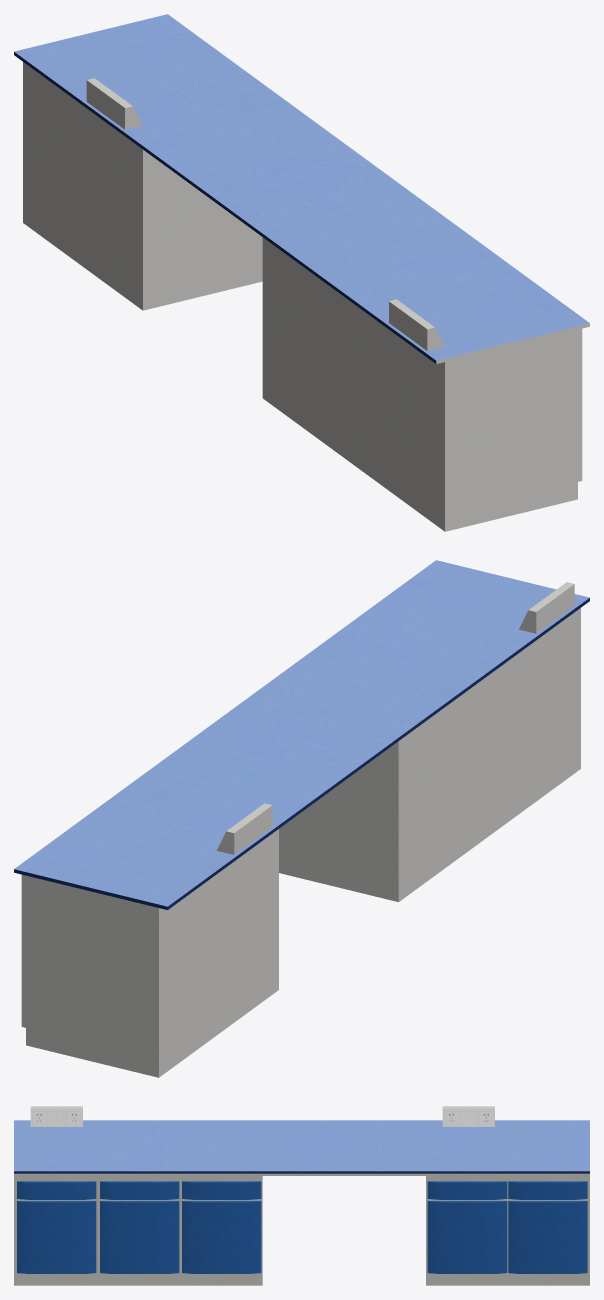
File: SM_氨基酸_定位桌子_002.fbx
The picture shows the model from 3 angles, top to bottom: view 1: azimuth 30°, elevation 25°; view 2: azimuth 150°, elevation 25°; view 3: azimuth 270°, elevation 25°; orthographic projection. The views are drawn at different scales.
Parts seen in each view (by area): view 1: SM_氨基酸_定位桌子_002; view 2: SM_氨基酸_定位桌子_002; view 3: SM_氨基酸_定位桌子_002.
Boxes of the visible parts, box(x1,y1,x2,y2) form: SM_氨基酸_定位桌子_002: box(14, 14, 589, 531); SM_氨基酸_定位桌子_002: box(14, 560, 589, 1077); SM_氨基酸_定位桌子_002: box(14, 1106, 589, 1285).
Bounding box in the file's own units: 739 × 896 × 3515.
